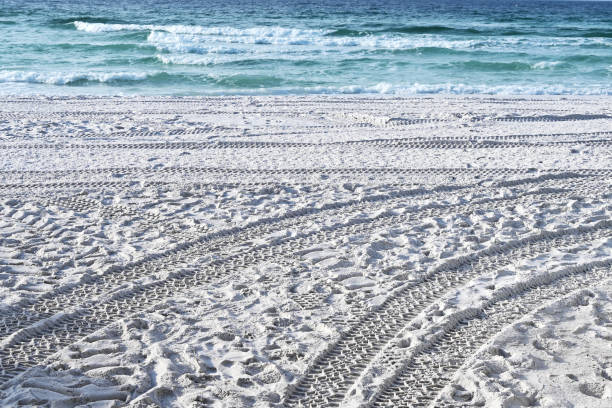vehicle_track: (0, 212, 419, 379), (285, 220, 611, 406), (370, 258, 611, 407), (0, 141, 339, 149)
